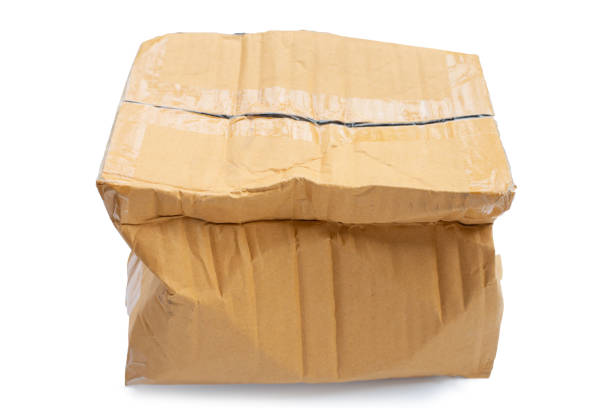damaged package: (88, 187, 163, 352), (180, 204, 441, 240), (445, 197, 516, 262)
